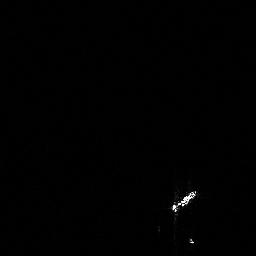ship: (167, 186, 202, 214)
